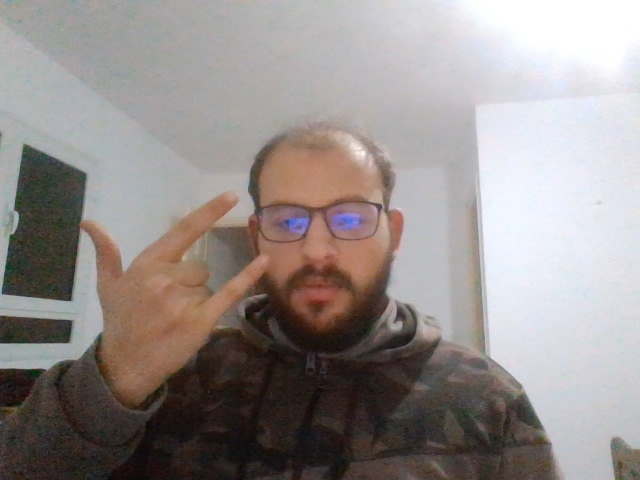I Love You: (81, 194, 268, 371)
